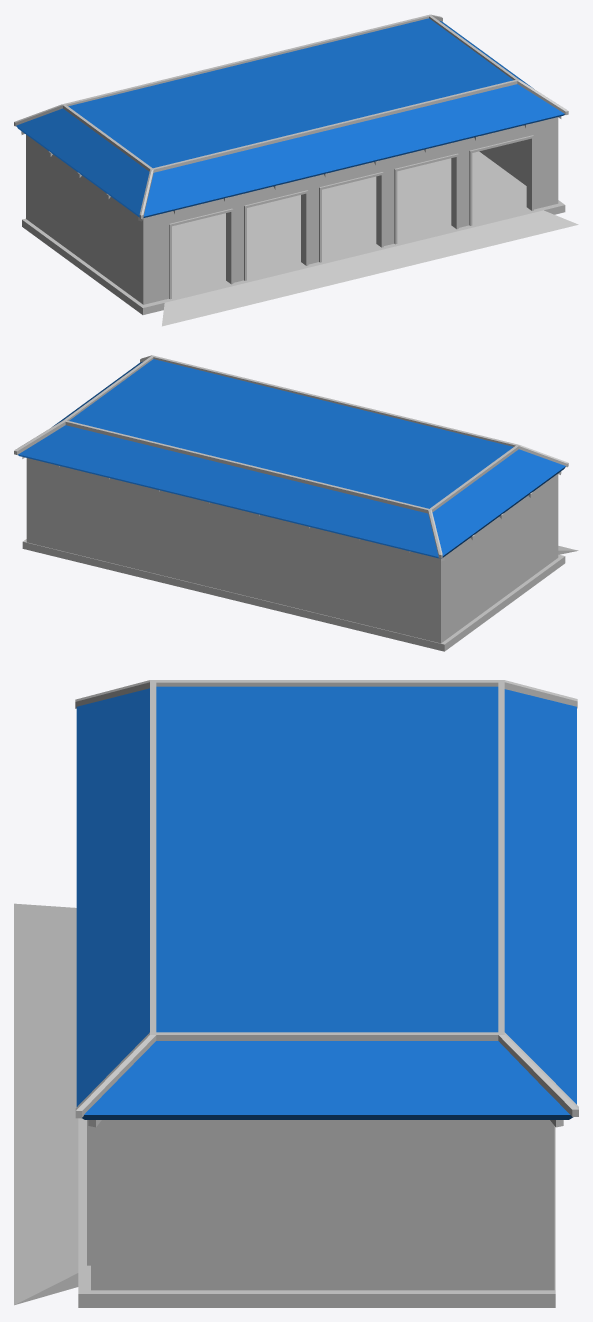
The model's file is SM_garage.fbx.
3 views of the same model, one above another, from view 1: azimuth 30°, elevation 25°; view 2: azimuth 150°, elevation 25°; view 3: azimuth 270°, elevation 25° (orthographic). The views are drawn at different scales.
Parts seen in each view (by area): view 1: Cube_3, Cube_6; view 2: Cube_6, Cube_3; view 3: Cube_6, Cube_3.
Part boxes in pixels (x1=…): Cube_3: x1=22, y1=117, x2=578, y2=326; Cube_6: x1=14, y1=14, x2=568, y2=221; Cube_6: x1=14, y1=355, x2=568, y2=561; Cube_3: x1=22, y1=458, x2=578, y2=651; Cube_6: x1=75, y1=680, x2=578, y2=1127; Cube_3: x1=14, y1=903, x2=555, y2=1307.
Bounding box in the file's own units: 2277 × 636 × 1320.
